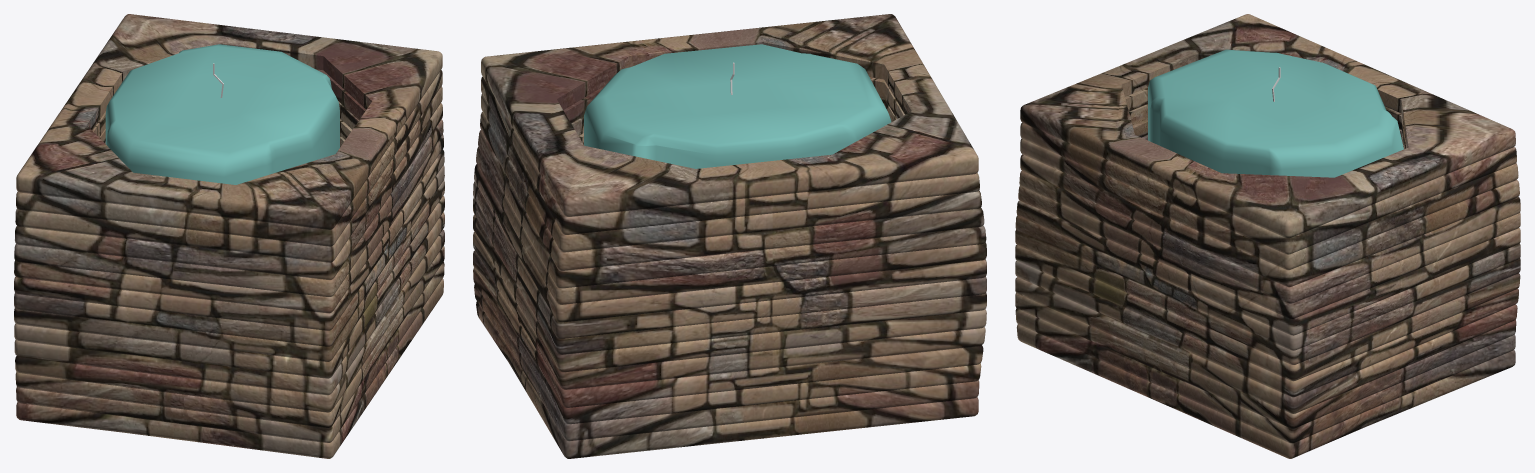
File: candle rescale with stone.FBX
The picture shows the model from 3 angles, left to right: view 1: azimuth 30°, elevation 25°; view 2: azimuth 150°, elevation 25°; view 3: azimuth 270°, elevation 25°; orthographic projection. The views are drawn at different scales.
Visible parts, largest first — view 1: the candle stone, the candle wax; view 2: the candle stone, the candle wax; view 3: the candle stone, the candle wax.
Part boxes in pixels (bbox=[...]): the candle stone: bbox=[14, 14, 444, 458]; the candle wax: bbox=[105, 44, 339, 184]; the candle stone: bbox=[473, 14, 986, 458]; the candle wax: bbox=[584, 44, 891, 168]; the candle stone: bbox=[1015, 14, 1520, 458]; the candle wax: bbox=[1148, 49, 1403, 177].
Size of the model in its own units: 15.01 by 9.22 by 14.95.
